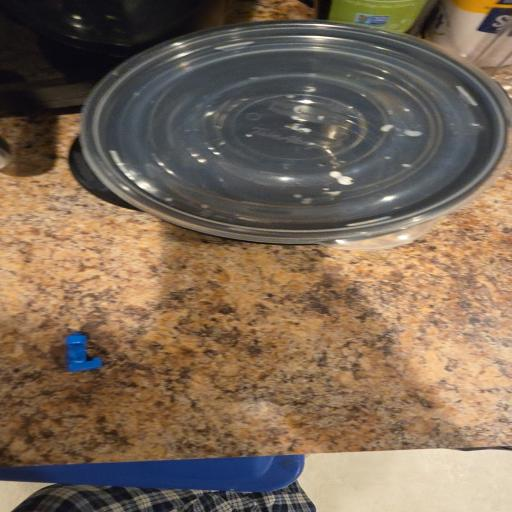Blue: (66, 333, 102, 371)
